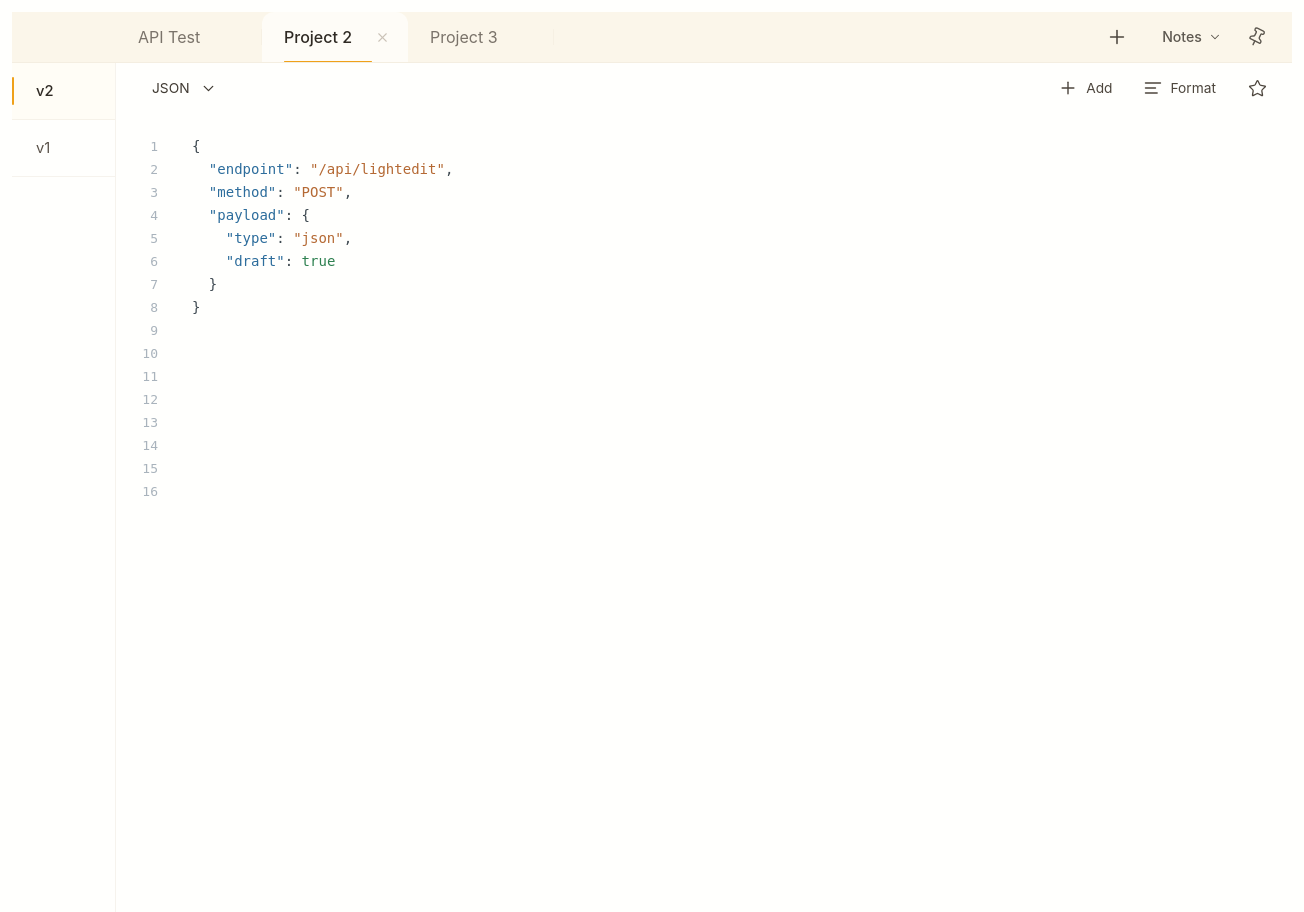
LightEdit quality baseline › keeps the Notes menu baseline state available from the top bar
The width and height of the screenshot is (1304, 912).
Click the button with aria-label "Open notes menu": click(1192, 37) [1154, 18, 1230, 56]
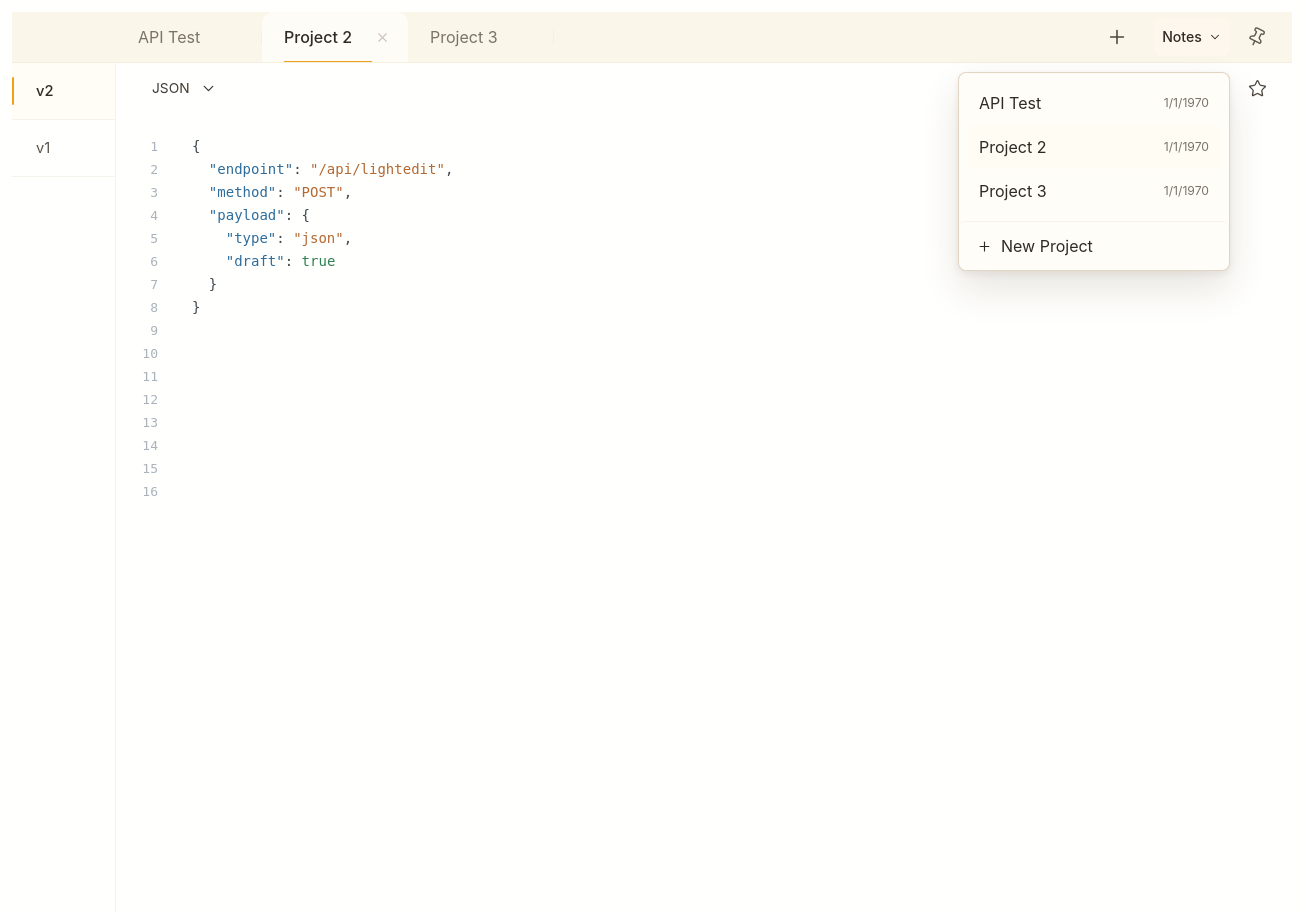
Expected: the menu item "API Test 1/1/1970" is shown, [967, 81, 1221, 125]
Expected: the menu item "Project 2 1/1/1970" is shown, [967, 125, 1221, 169]
Expected: the menu item "Project 3 1/1/1970" is shown, [967, 169, 1221, 213]
